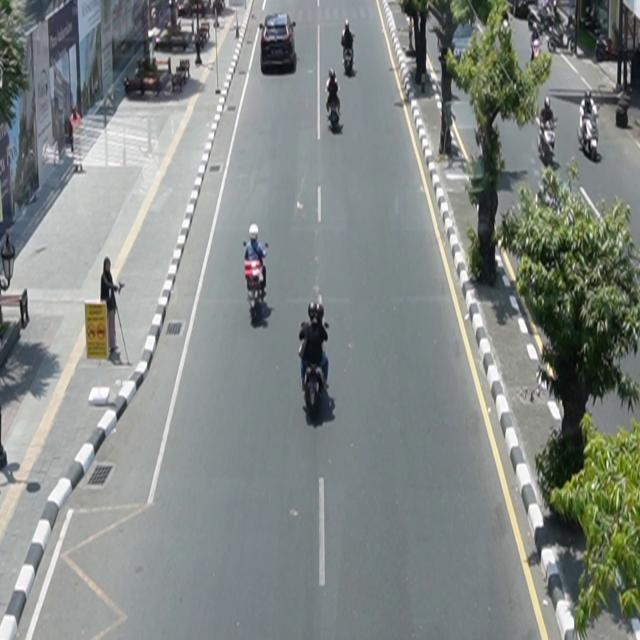car: (260, 13, 297, 74)
